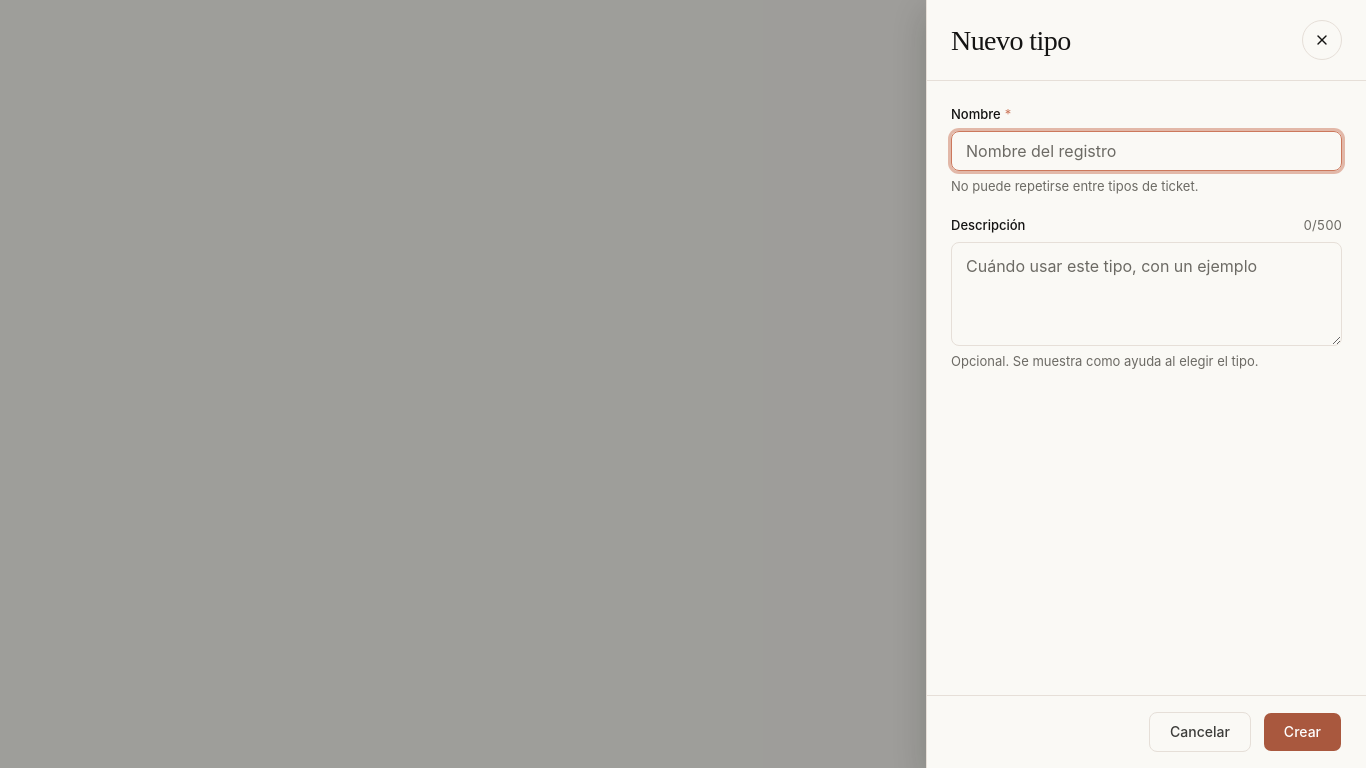
Test: TipoTicketFormDialog › un error del servidor se muestra en el panel
In the field labelled "Nombre": (1146, 150) [951,130,1342,170], type "Incidente"
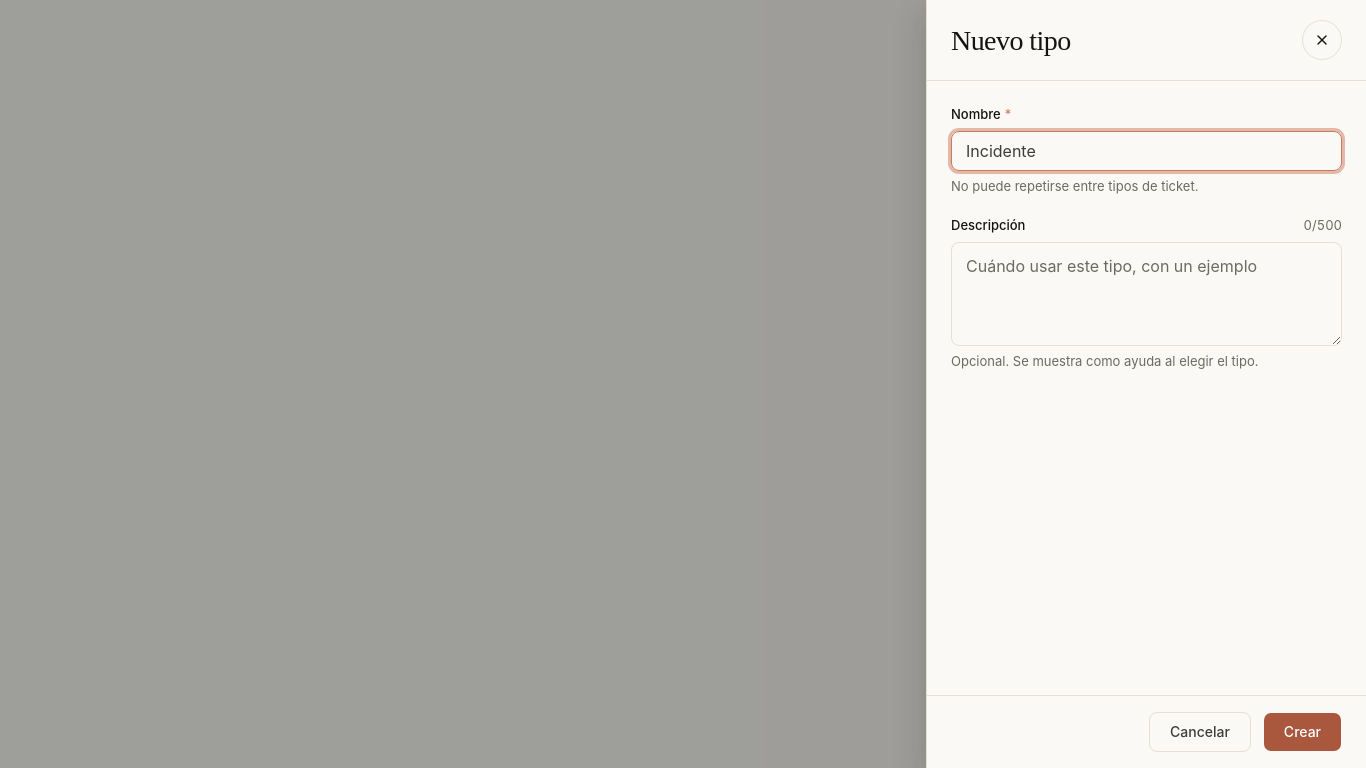
Click the button "Crear": (1302, 732) [1263,712,1342,752]
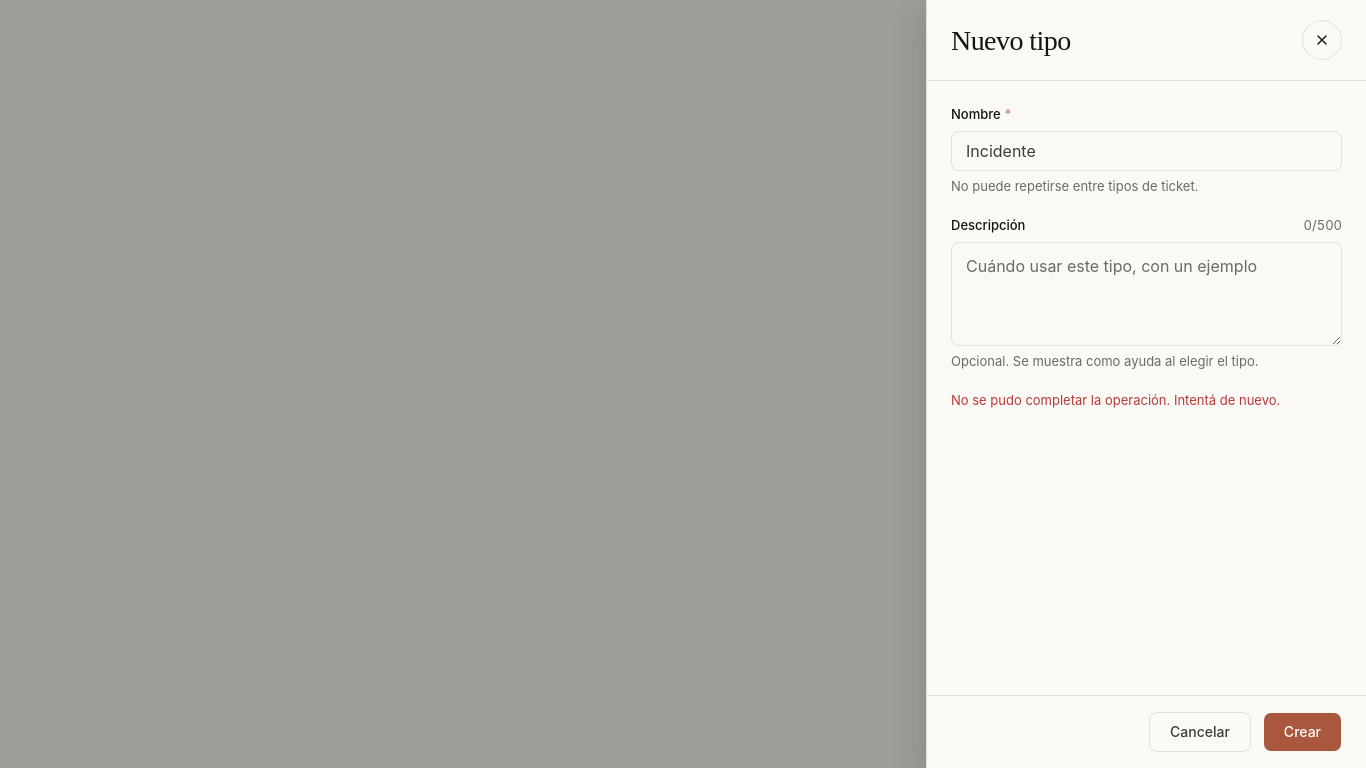
Expected: the message "No se pudo completar la operación. Intentá de nuevo." is shown, [951,392,1280,408]
